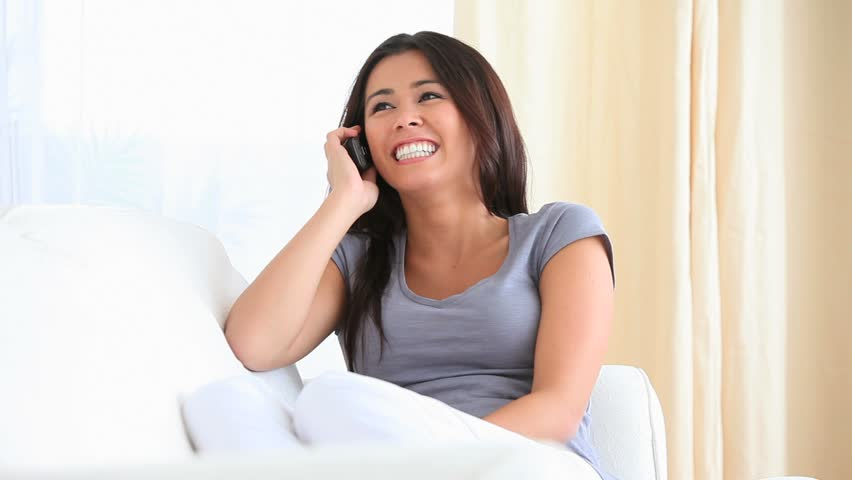phone: (326, 121, 382, 189)
talk: (325, 70, 466, 195)
